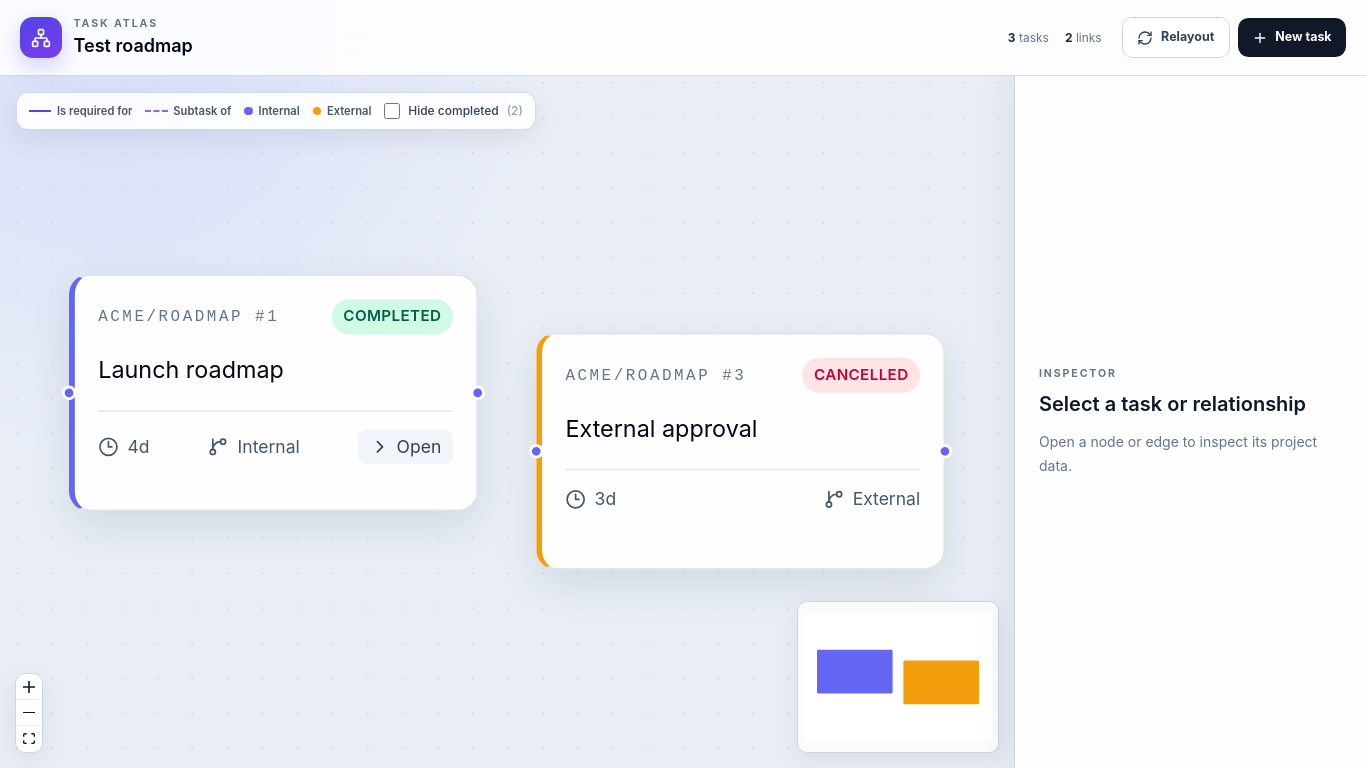
Test: App › hides completed and cancelled tasks while keeping unfinished children visible
Check: the button named "Select Launch roadmap" is shown, box [98,351,453,386]
Click the checkbox labelled "Hide completed" at (392, 111), box [384,103,400,119]
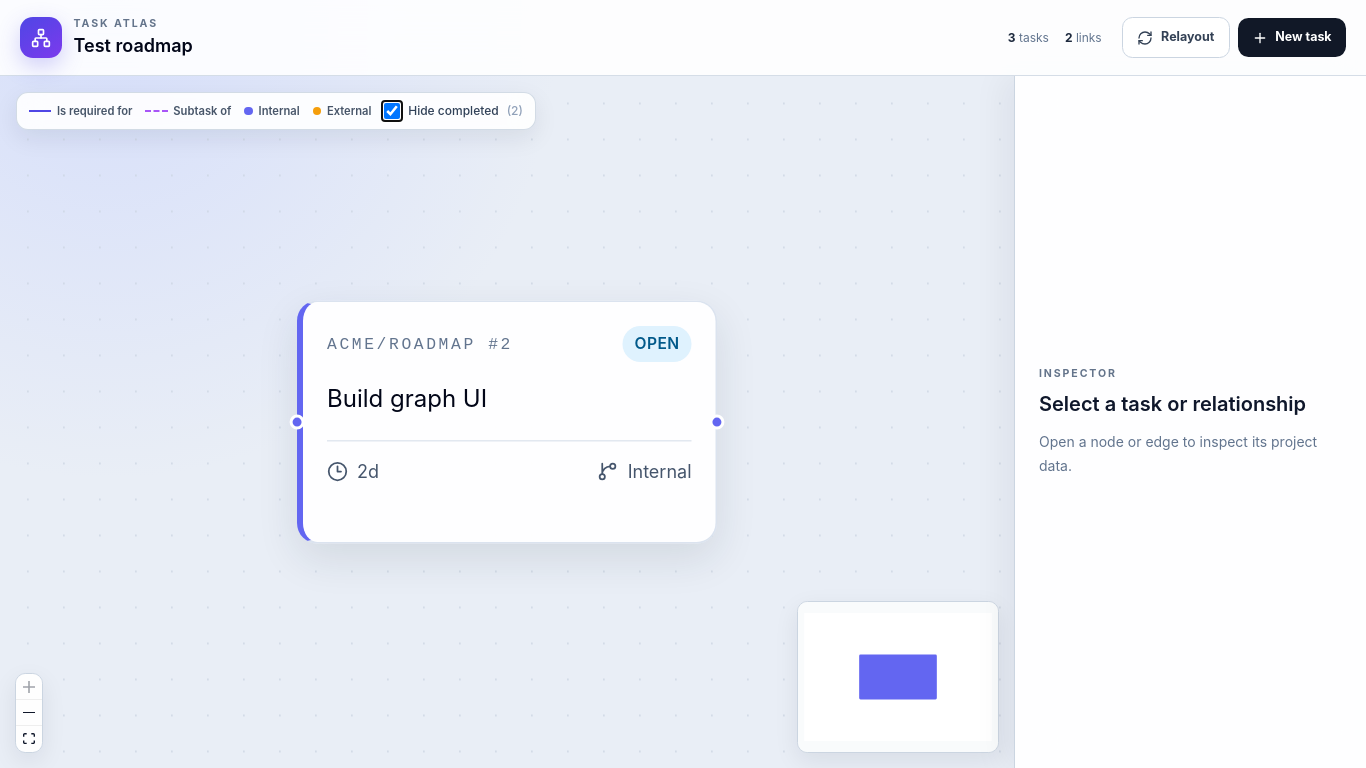
Check: the text "(2)" is shown, box [507,103,523,119]
Check: the button named "Select Build graph UI" is shown, box [327,379,692,415]
